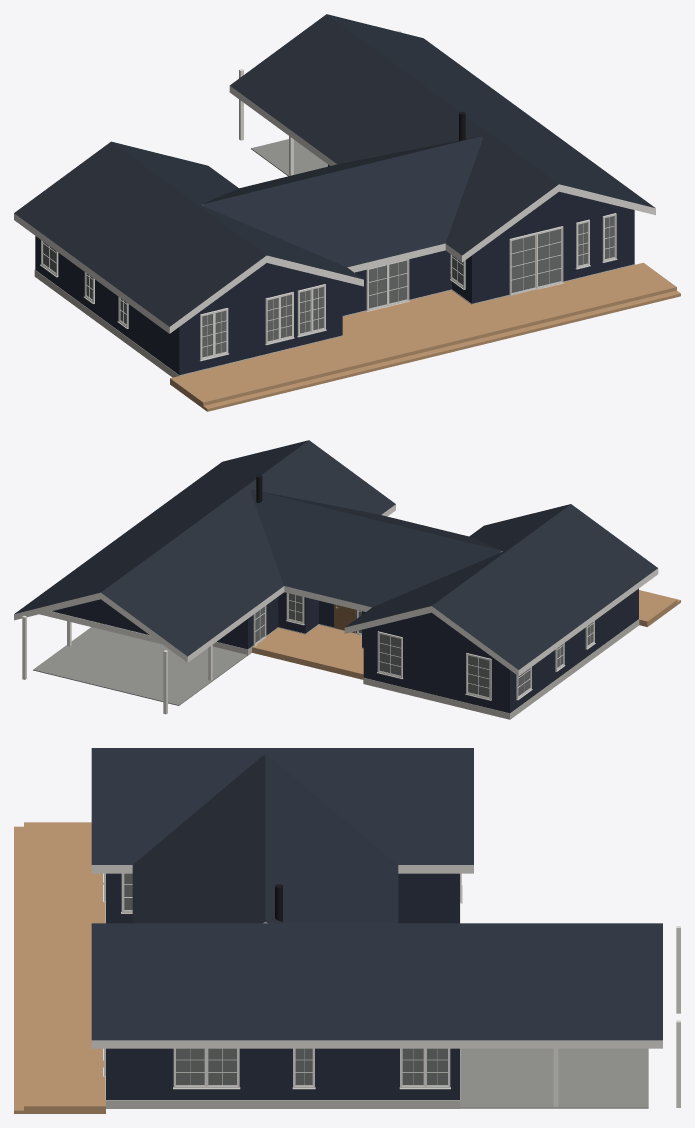
The model's file is teder187_c1_p0_m1.glb.
3 views of the same model, one above another, from view 1: azimuth 30°, elevation 25°; view 2: azimuth 150°, elevation 25°; view 3: azimuth 270°, elevation 25° (orthographic). The views are drawn at different scales.
Parts seen in each view (by area): view 1: roof, deck, wall, glass, curtain, fascia, frame, plinth, paving; view 2: roof, wall, paving, fascia, deck, glass, curtain, plinth, frame, door; view 3: roof, deck, wall, paving, fascia, glass, curtain, plinth, frame.
Boxes of the visible parts, x1,y1,x2,y2 form: roof: (14, 14, 654, 326); deck: (170, 262, 680, 411); wall: (35, 164, 634, 375); glass: (43, 216, 614, 357); curtain: (43, 216, 613, 356); fascia: (14, 30, 655, 333); frame: (40, 213, 617, 361); plinth: (34, 264, 635, 377); paving: (251, 139, 327, 176); roof: (15, 440, 657, 669); wall: (52, 588, 638, 713); paving: (33, 627, 247, 705); fascia: (14, 504, 658, 714); deck: (252, 590, 680, 679); glass: (255, 593, 593, 697); curtain: (255, 593, 592, 696); plinth: (212, 619, 639, 719); frame: (253, 593, 595, 700); door: (334, 604, 355, 632); roof: (91, 748, 662, 1040); deck: (14, 822, 105, 1113); wall: (106, 873, 459, 1099); paving: (460, 1048, 648, 1108); fascia: (91, 865, 680, 1107); glass: (124, 873, 447, 1085); curtain: (124, 873, 447, 1084); plinth: (105, 902, 460, 1108); frame: (103, 873, 462, 1089).
Size of the model in its own units: 21.93 by 5.66 by 21.19.
13 materials, 5 textured.
